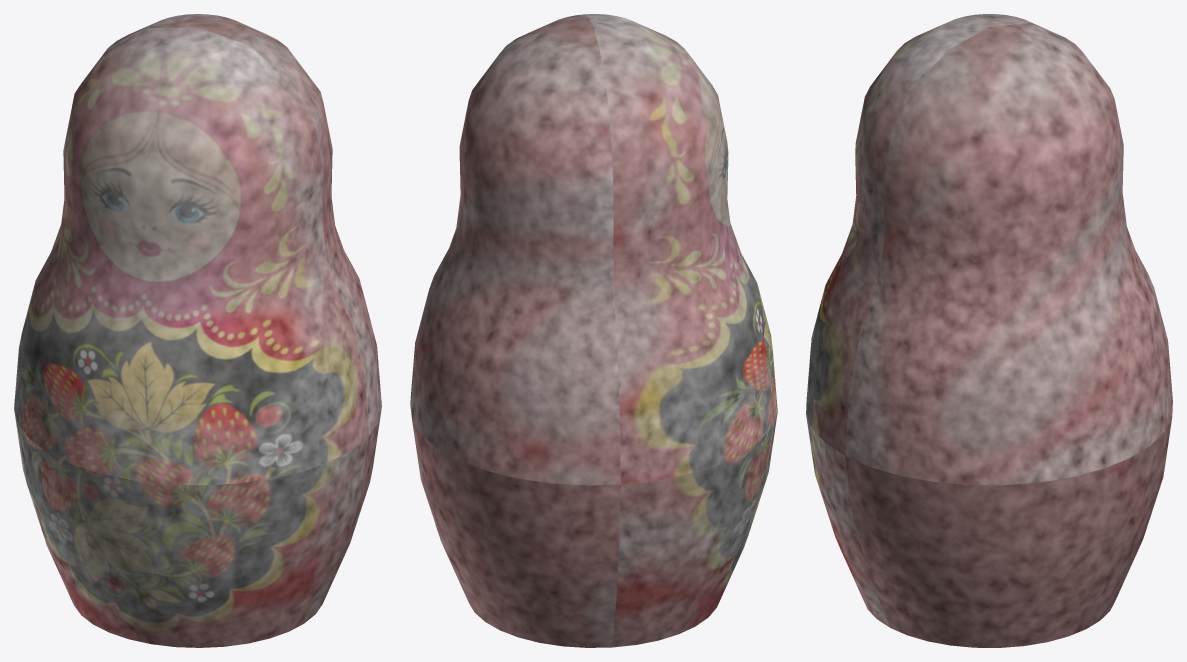
Rendered from hidden_newDoll2.glb.
The picture shows the model from 3 angles, left to right: view 1: azimuth 30°, elevation 25°; view 2: azimuth 150°, elevation 25°; view 3: azimuth 270°, elevation 25°; orthographic projection.
Visible parts, largest first — view 1: Matroska top, Matroska bottom__0; view 2: Matroska top, Matroska bottom__0; view 3: Matroska top, Matroska bottom__0.
Boxes of the visible parts, <box> form: Matroska top: <box>14,14,381,485</box>; Matroska bottom__0: <box>14,409,381,647</box>; Matroska top: <box>410,14,777,485</box>; Matroska bottom__0: <box>412,412,777,647</box>; Matroska top: <box>806,14,1172,485</box>; Matroska bottom__0: <box>806,414,1172,647</box>.
Bounding box in the file's own units: 0.4566 × 0.7789 × 0.4566.
1 material, 1 textured.
